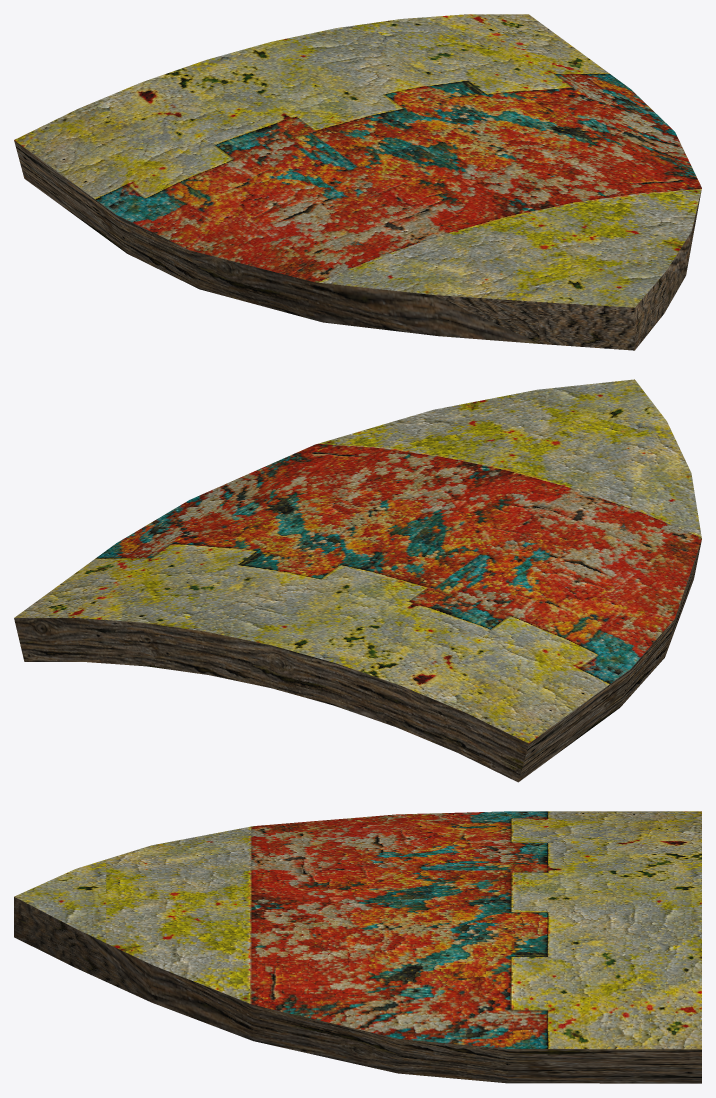
Rendered from mm9_deco_shield1flat.glb.
The picture shows the model from 3 angles, top to bottom: view 1: azimuth 30°, elevation 25°; view 2: azimuth 150°, elevation 25°; view 3: azimuth 270°, elevation 25°; orthographic projection. The views are drawn at different scales.
Visible parts, largest first — view 1: Shield1flat; view 2: Shield1flat; view 3: Shield1flat.
Part boxes in pixels (bbox=[...]): Shield1flat: bbox=[14, 14, 701, 350]; Shield1flat: bbox=[14, 379, 701, 782]; Shield1flat: bbox=[14, 811, 701, 1083].
Size of the model in its own units: 0.9023 by 0.1288 by 1.1.
Materials: 1 (1 with a texture image).
